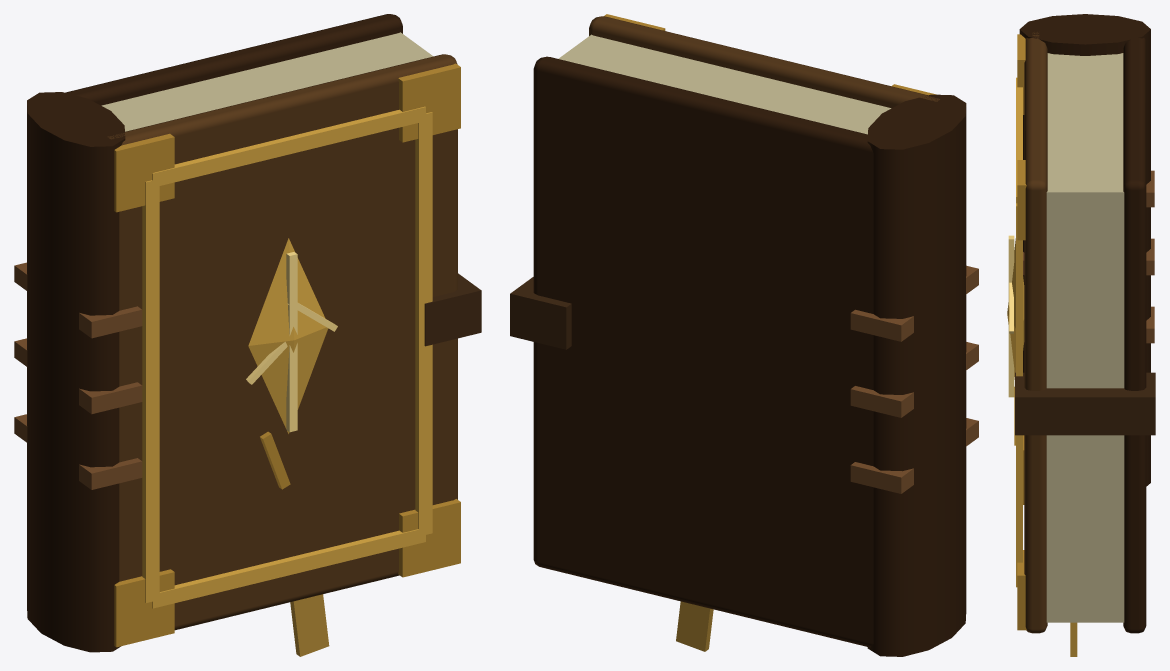
The model's file is tome_goldleaf.glb.
3 renders of one model, left to right at view 1: azimuth 30°, elevation 25°; view 2: azimuth 150°, elevation 25°; view 3: azimuth 270°, elevation 25°, orthographic. The views are drawn at different scales.
Visible parts, largest first — view 1: InscriptionTomeGoldleaf_TomeOpaque, InscriptionTomeGoldleaf_TomeMetal; view 2: InscriptionTomeGoldleaf_TomeOpaque; view 3: InscriptionTomeGoldleaf_TomeOpaque, InscriptionTomeGoldleaf_TomeMetal.
Part boxes in pixels (bbox=[...]): InscriptionTomeGoldleaf_TomeOpaque: bbox=[14, 14, 481, 656]; InscriptionTomeGoldleaf_TomeMetal: bbox=[114, 63, 460, 647]; InscriptionTomeGoldleaf_TomeOpaque: bbox=[510, 16, 978, 656]; InscriptionTomeGoldleaf_TomeOpaque: bbox=[1015, 14, 1155, 656]; InscriptionTomeGoldleaf_TomeMetal: bbox=[1007, 34, 1026, 630].
Bounding box in the file's own units: 0.357 × 0.4968 × 0.1277.
